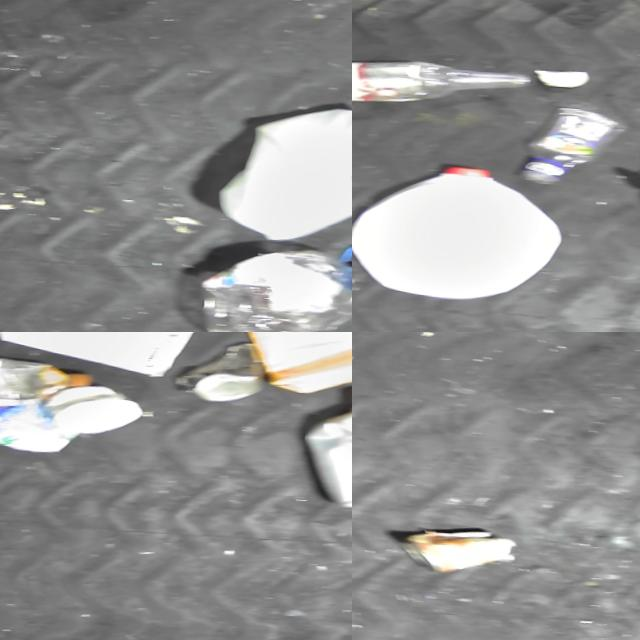can: (178, 339, 278, 405), (403, 523, 527, 576)
milk_jug: (352, 157, 584, 304), (219, 98, 352, 244)
non_white_jug: (299, 381, 352, 514)
plastic_bottle: (200, 241, 352, 332), (352, 52, 539, 113), (522, 98, 637, 188)
